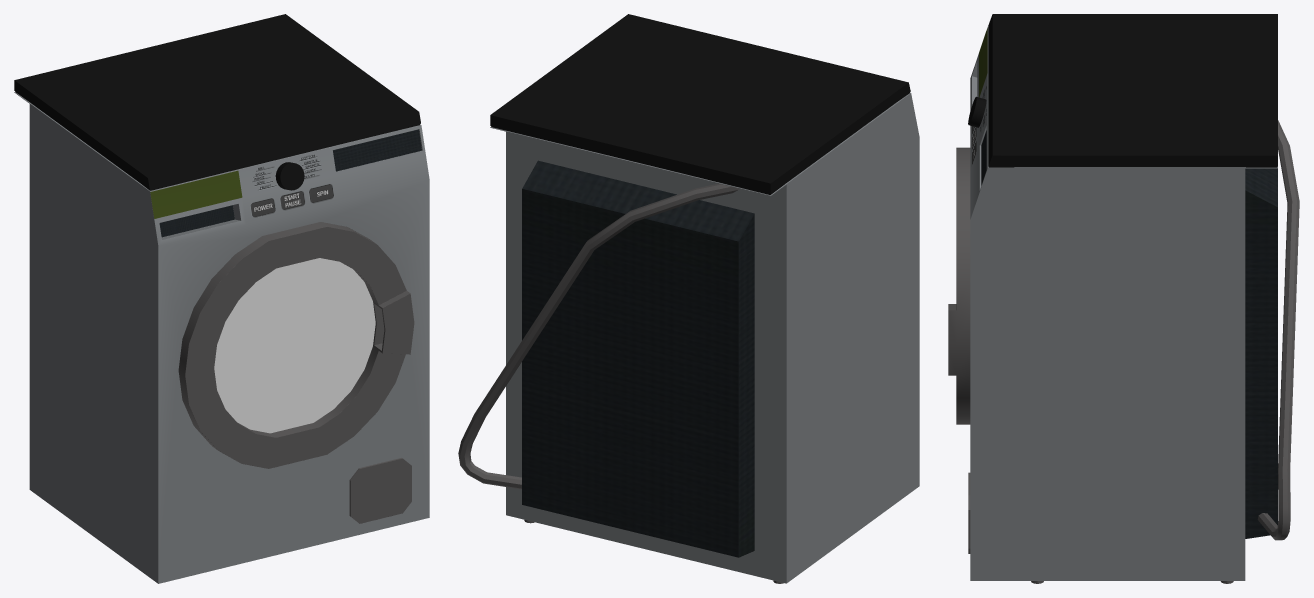
File: WashingMachine.fbx
3 renders of one model, left to right at view 1: azimuth 30°, elevation 25°; view 2: azimuth 150°, elevation 25°; view 3: azimuth 270°, elevation 25°, orthographic. The views are drawn at different scales.
Visible parts, largest first — view 1: Washing Machine; view 2: Washing Machine; view 3: Washing Machine.
Boxes of the visible parts, <box> form: Washing Machine: <box>14,14,429,583</box>; Washing Machine: <box>458,14,919,583</box>; Washing Machine: <box>948,14,1299,583</box>.
Bounding box in the file's own units: 69.84 × 90.79 × 66.69.
